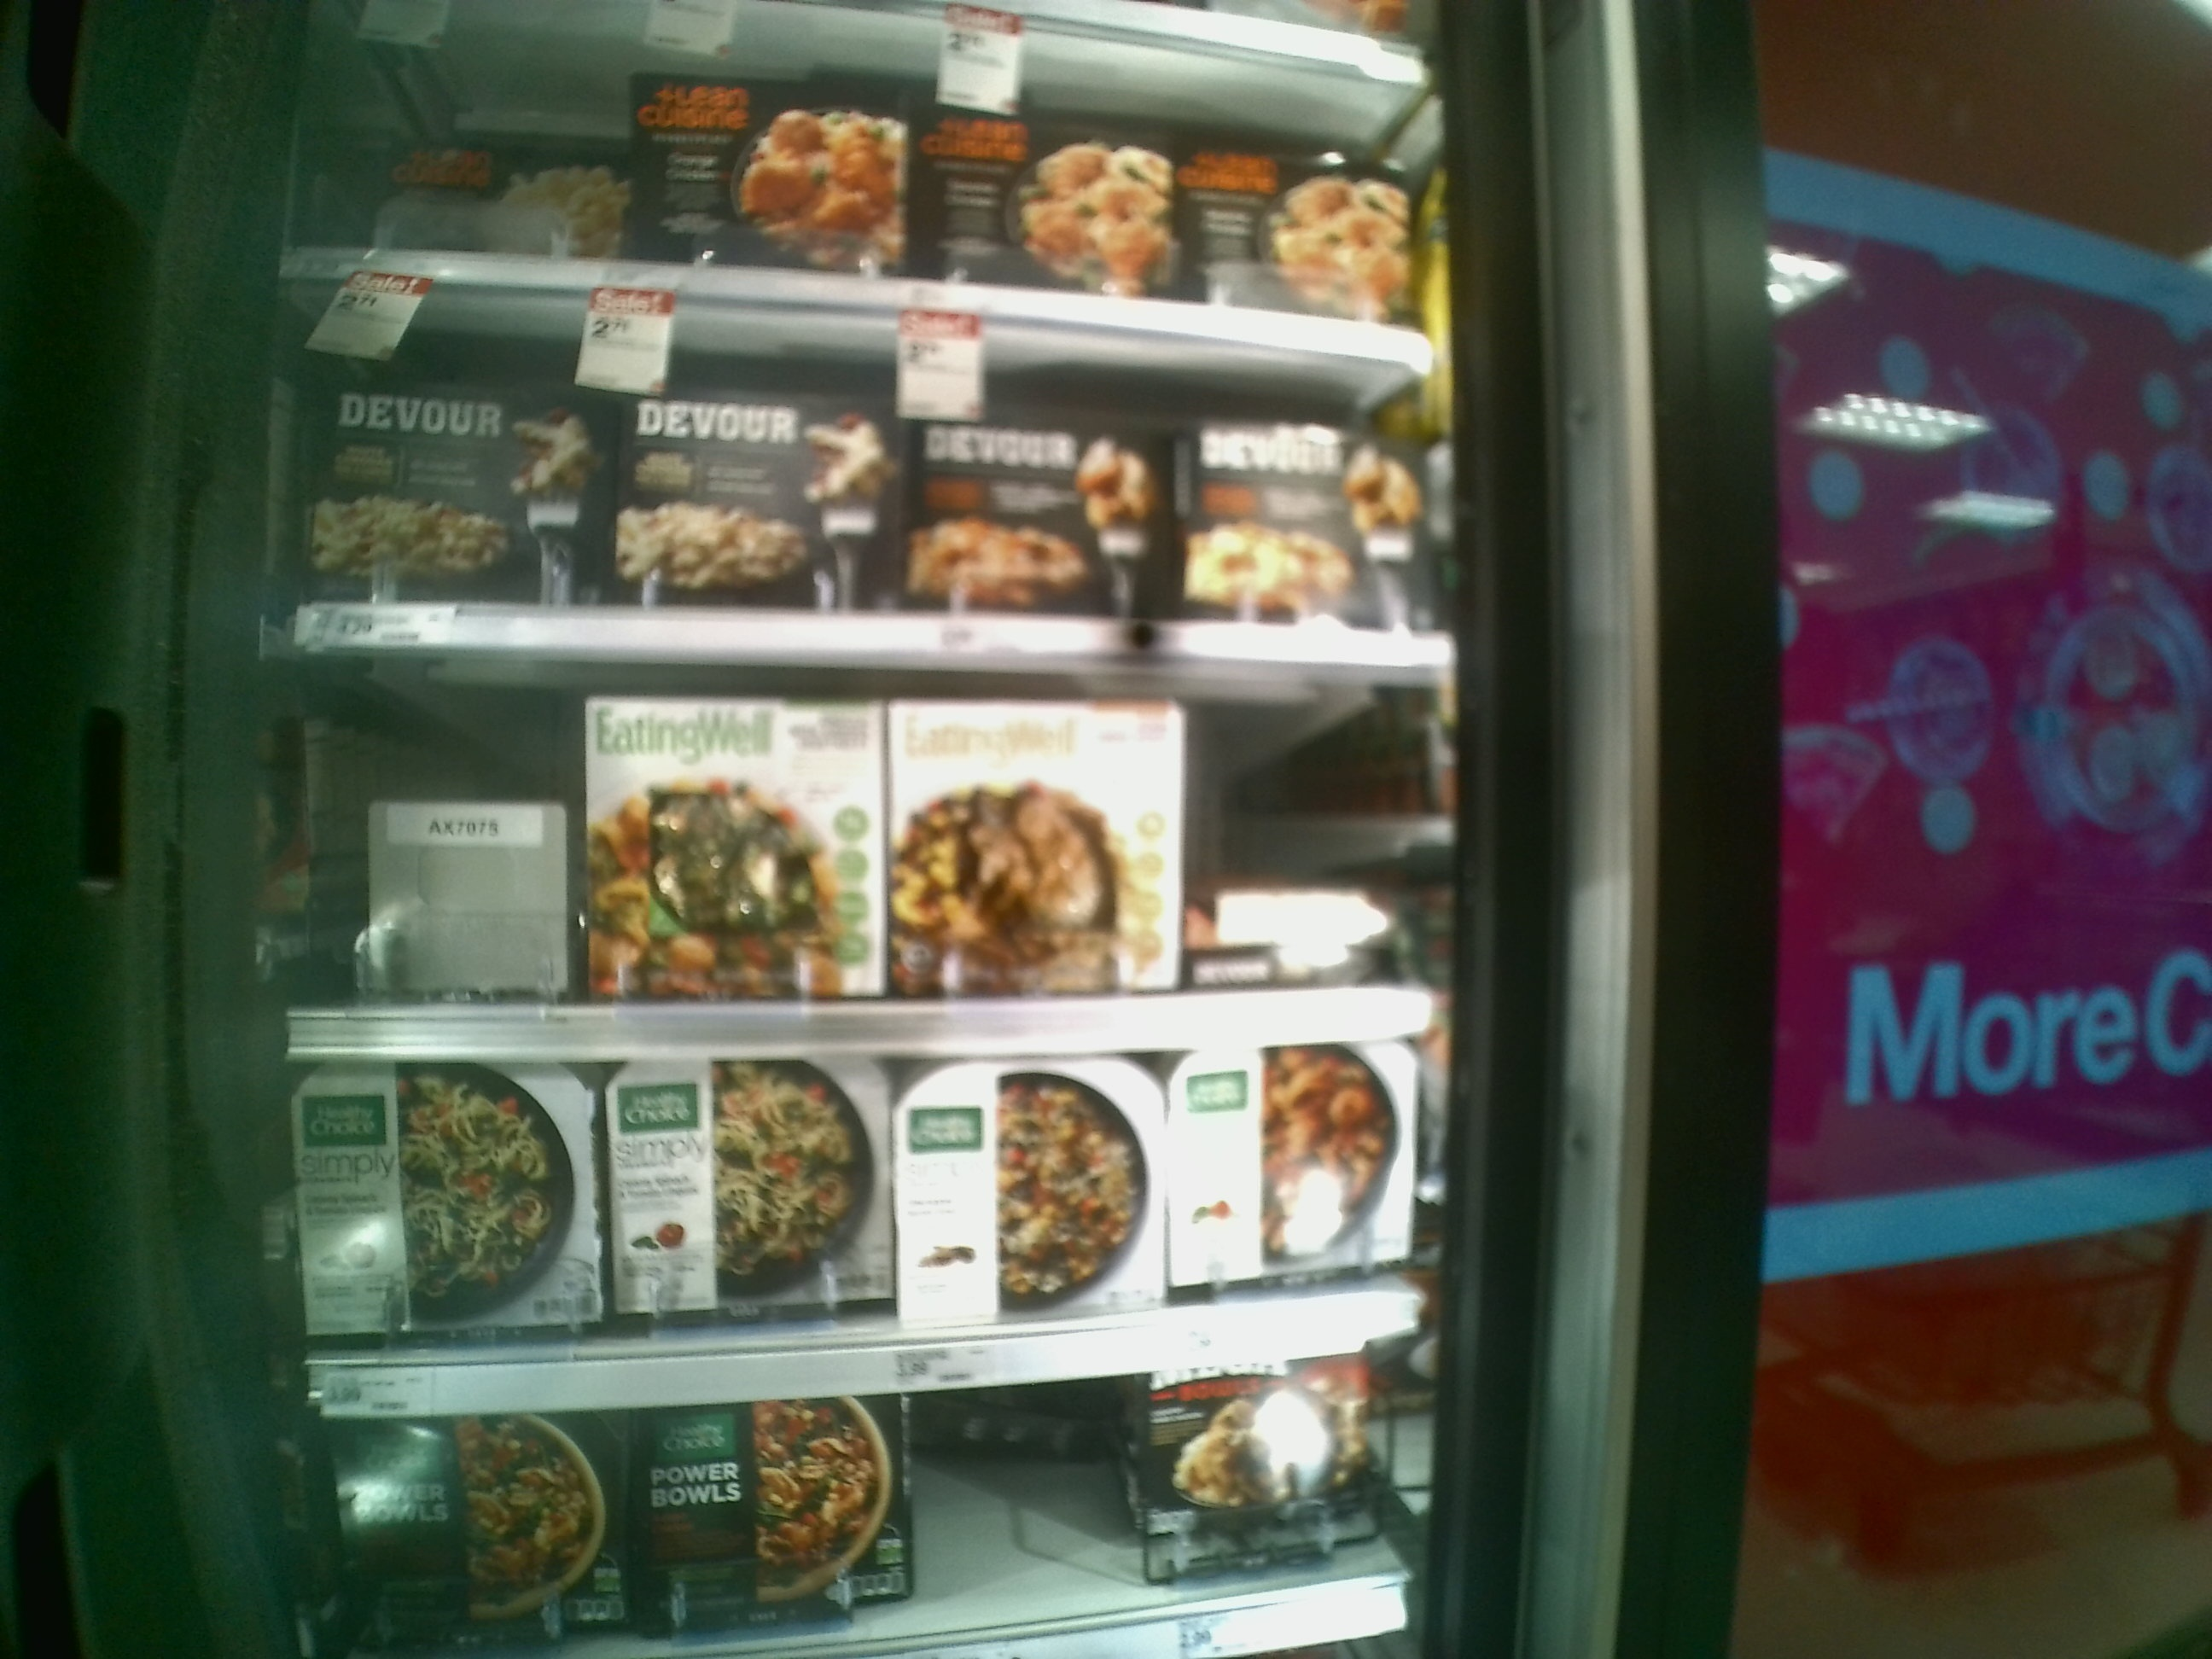shelf: (279, 647, 1479, 1054), (280, 267, 1460, 659), (279, 1035, 1446, 1424)
